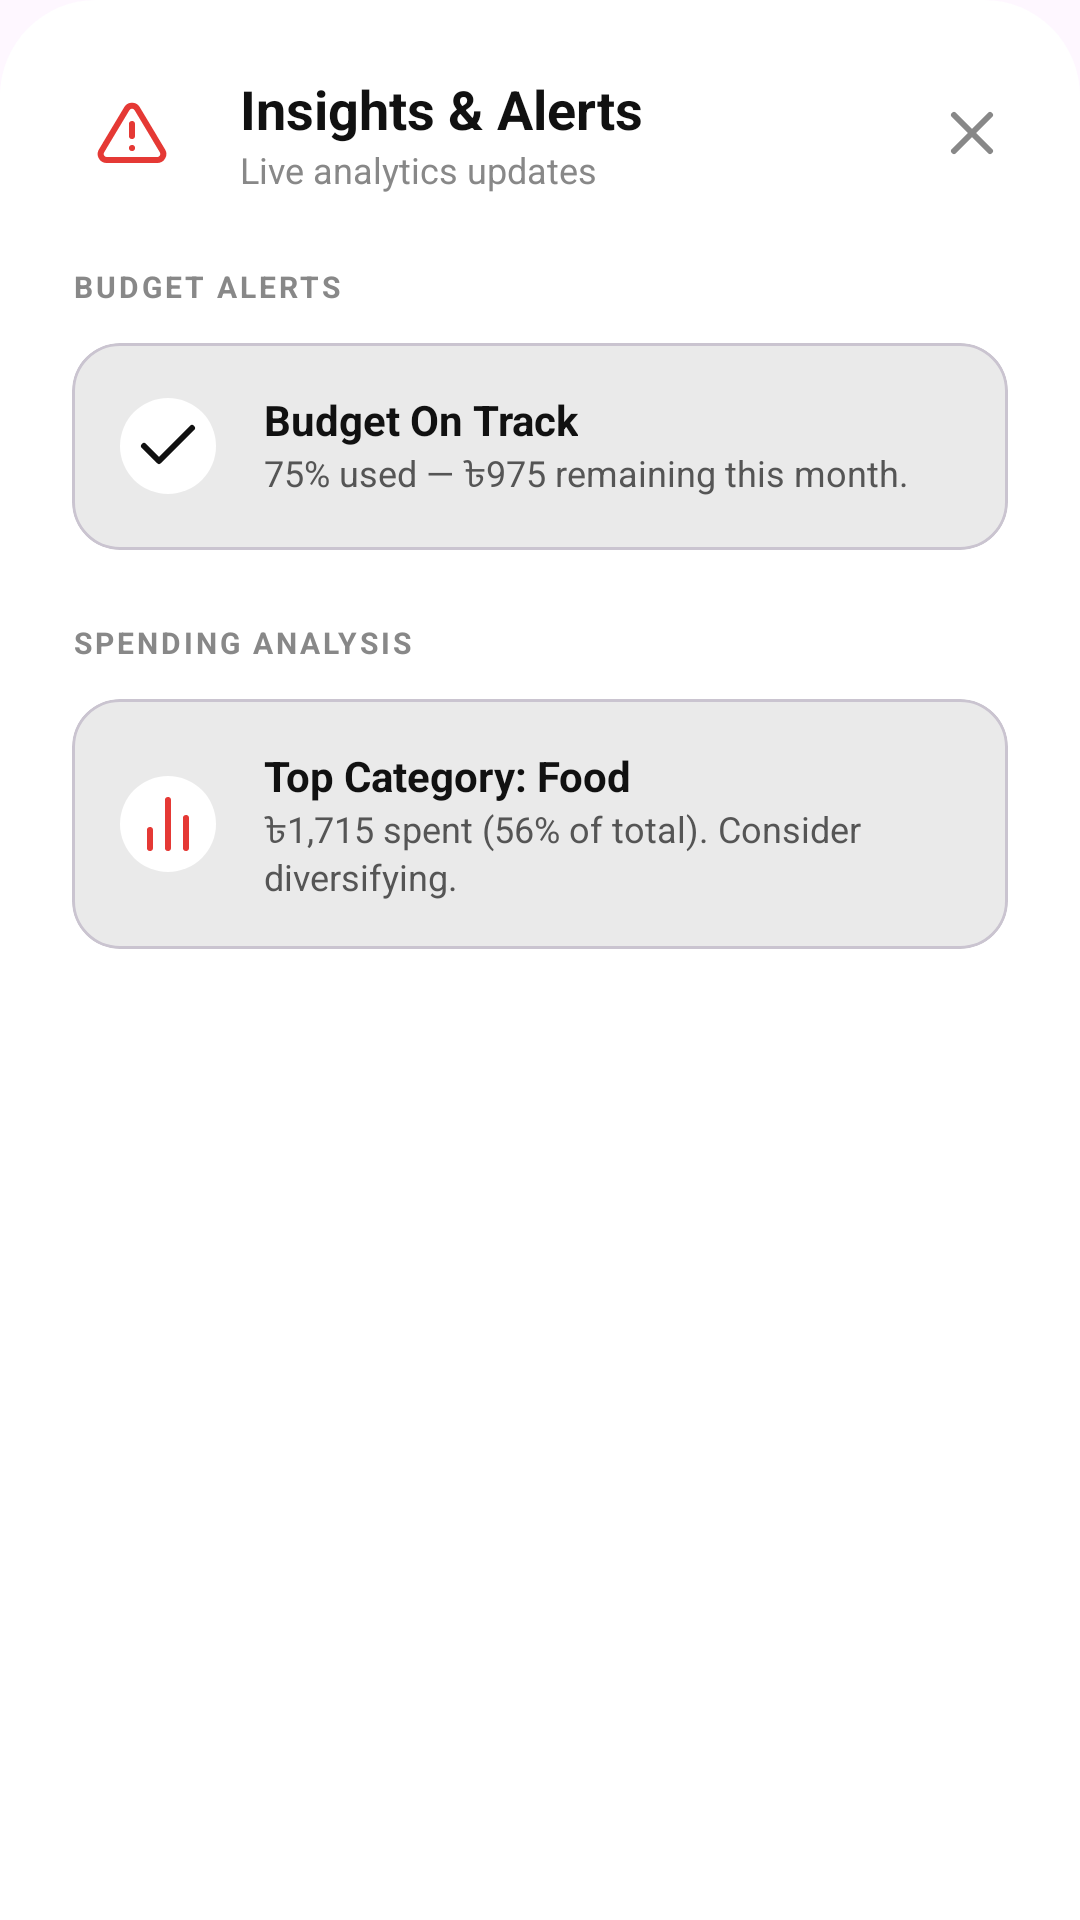

Where icons sit on this 1080×1920 app screen, as (x1, y1, x2, y2):
alert luxury: (97, 102, 167, 163)
check luxury: (120, 398, 216, 494)
close luxury: (951, 112, 993, 154)
stats luxury: (120, 776, 216, 872)
